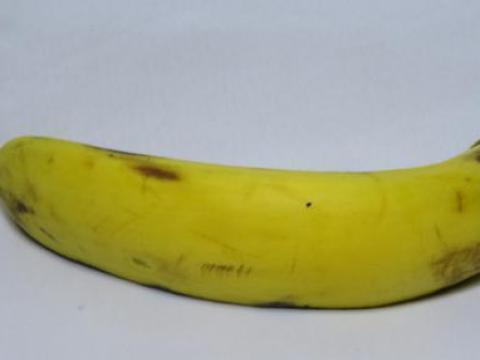freshripe: (0, 93, 479, 332)
